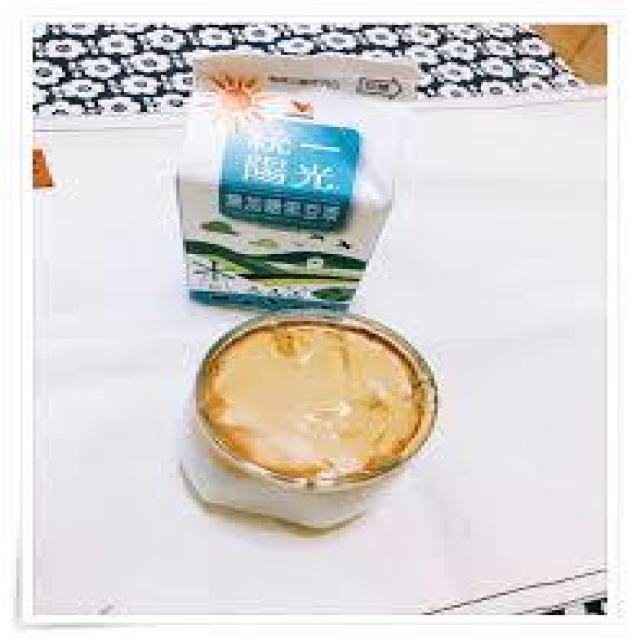TongYi_UnsweetenedBlackSoyMilk: (180, 50, 400, 312)
